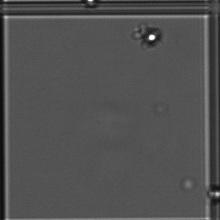Living Cell: (133, 21, 165, 57)
